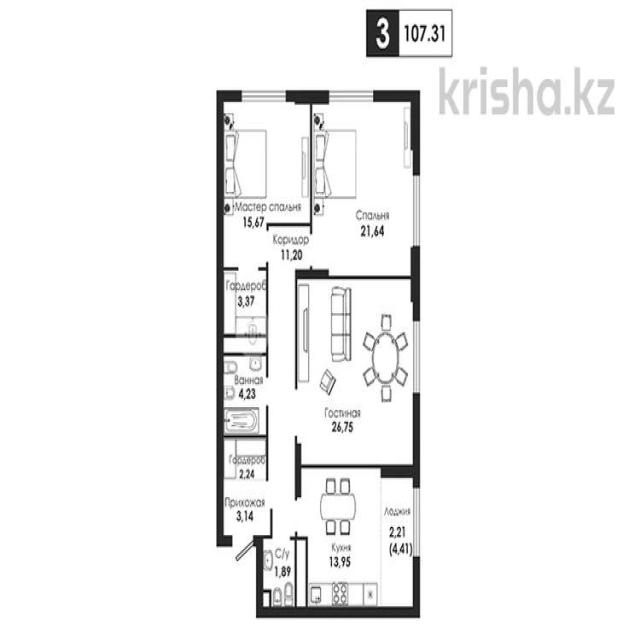balcony: (381, 477, 420, 611)
bathroom: (221, 354, 268, 436), (261, 537, 298, 609)
hallway: (269, 229, 295, 532)
kitchen: (299, 469, 382, 610)
living_room: (297, 274, 414, 466), (314, 99, 412, 275), (222, 100, 310, 225)
other: (220, 434, 267, 534), (222, 266, 265, 334)
